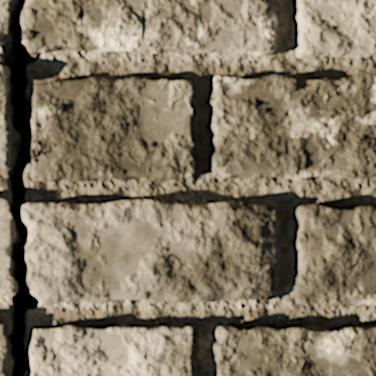brick: (208, 72, 375, 180), (32, 77, 193, 180), (30, 324, 192, 375), (293, 205, 375, 305), (296, 0, 375, 57), (213, 326, 303, 375), (302, 326, 375, 375), (0, 66, 11, 166), (0, 324, 9, 375), (302, 362, 315, 375), (35, 78, 57, 82)
broken_brick: (23, 199, 275, 304), (22, 0, 277, 56), (0, 197, 15, 296), (0, 0, 8, 45)
crack: (1, 0, 48, 375), (296, 326, 320, 375), (34, 79, 63, 85)
